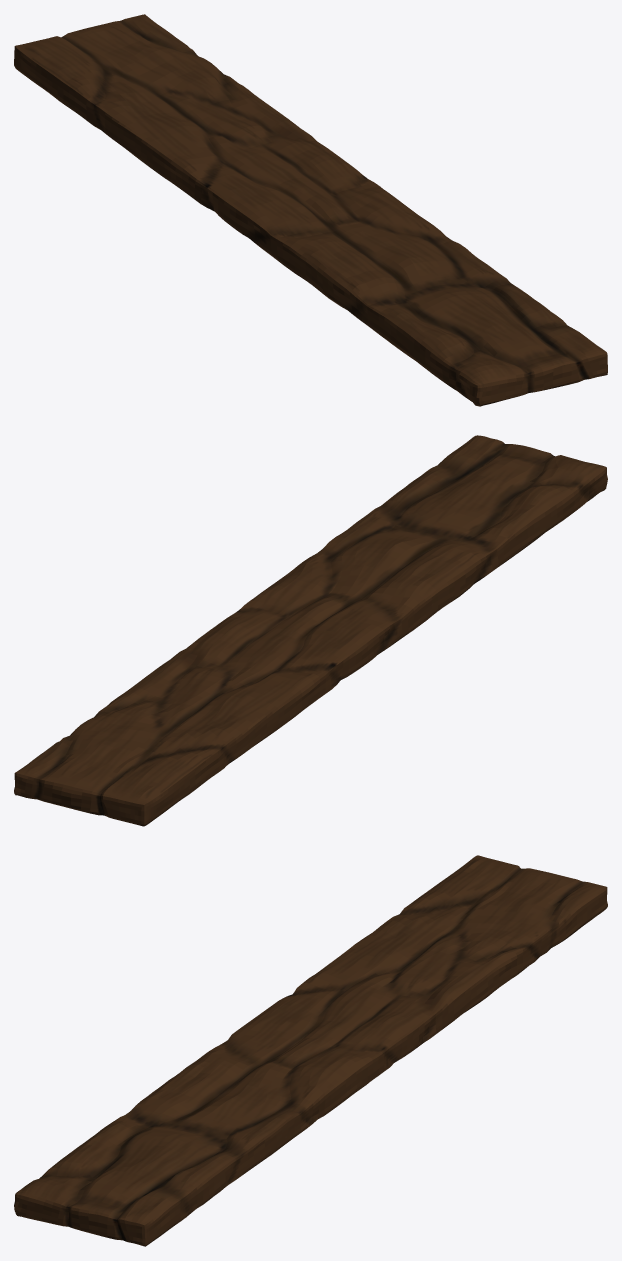
Rendered from Big_Platform.fbx.
3 renders of one model, top to bottom at view 1: azimuth 30°, elevation 25°; view 2: azimuth 150°, elevation 25°; view 3: azimuth 330°, elevation 25°, orthographic.
Parts seen in each view (by area): view 1: Big_Platform1:ZBrushPolyMesh3D; view 2: Big_Platform1:ZBrushPolyMesh3D; view 3: Big_Platform1:ZBrushPolyMesh3D.
Part boxes in pixels (bbox=[...]): Big_Platform1:ZBrushPolyMesh3D: bbox=[14, 14, 607, 406]; Big_Platform1:ZBrushPolyMesh3D: bbox=[14, 435, 607, 826]; Big_Platform1:ZBrushPolyMesh3D: bbox=[14, 855, 607, 1246].
Bounding box in the file's own units: 2 × 0.4253 × 12.
